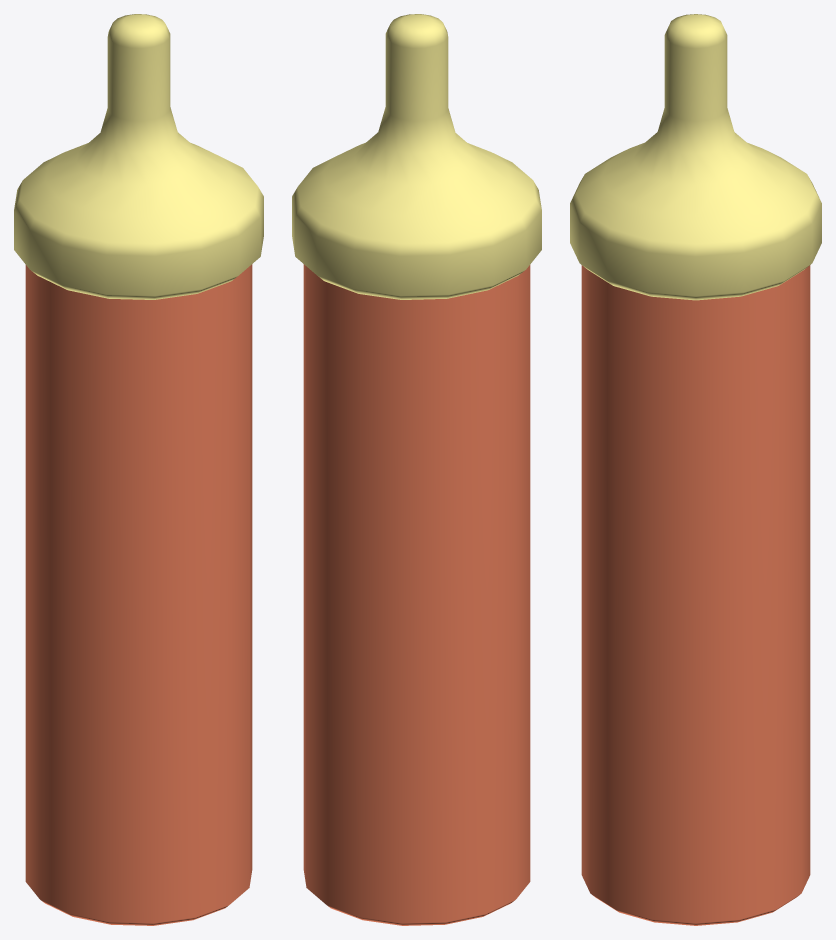
The model's file is City_3_Mustard_1.glb.
3 views of the same model, side by side, from view 1: azimuth 30°, elevation 25°; view 2: azimuth 150°, elevation 25°; view 3: azimuth 270°, elevation 25° (orthographic).
Visible parts, largest first — view 1: City_3_Mustard_1; view 2: City_3_Mustard_1; view 3: City_3_Mustard_1.
Part boxes in pixels (left/top/right/bottom): City_3_Mustard_1: left=14, top=14, right=263, bottom=925; City_3_Mustard_1: left=292, top=14, right=541, bottom=925; City_3_Mustard_1: left=570, top=14, right=821, bottom=925.
Size of the model in its own units: 0.1303 by 0.4898 by 0.1303.
1 material, 1 textured.
